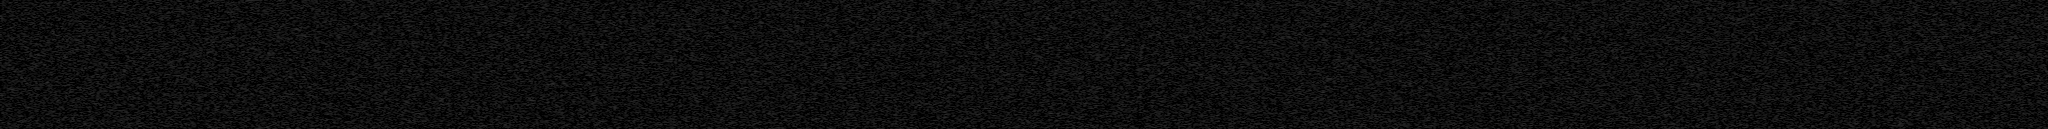wv_cw: (801, 0, 806, 129)
wv_lsb: (842, 0, 848, 129), (1226, 64, 1232, 129), (1226, 1, 1232, 63), (760, 1, 765, 43), (760, 72, 765, 96), (761, 51, 765, 68), (761, 103, 765, 117), (761, 122, 764, 129), (761, 44, 764, 48), (761, 119, 764, 121)
wv_usb: (170, 0, 176, 79), (170, 113, 176, 129), (170, 79, 176, 89)
